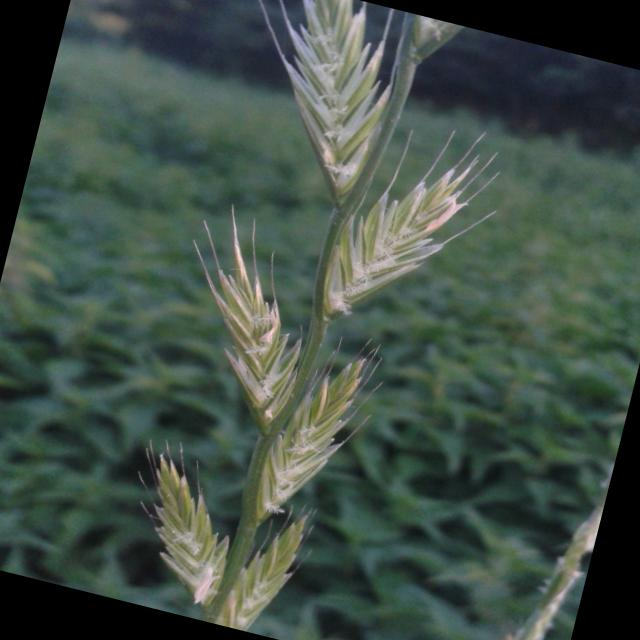Lolium: (88, 0, 540, 640)
